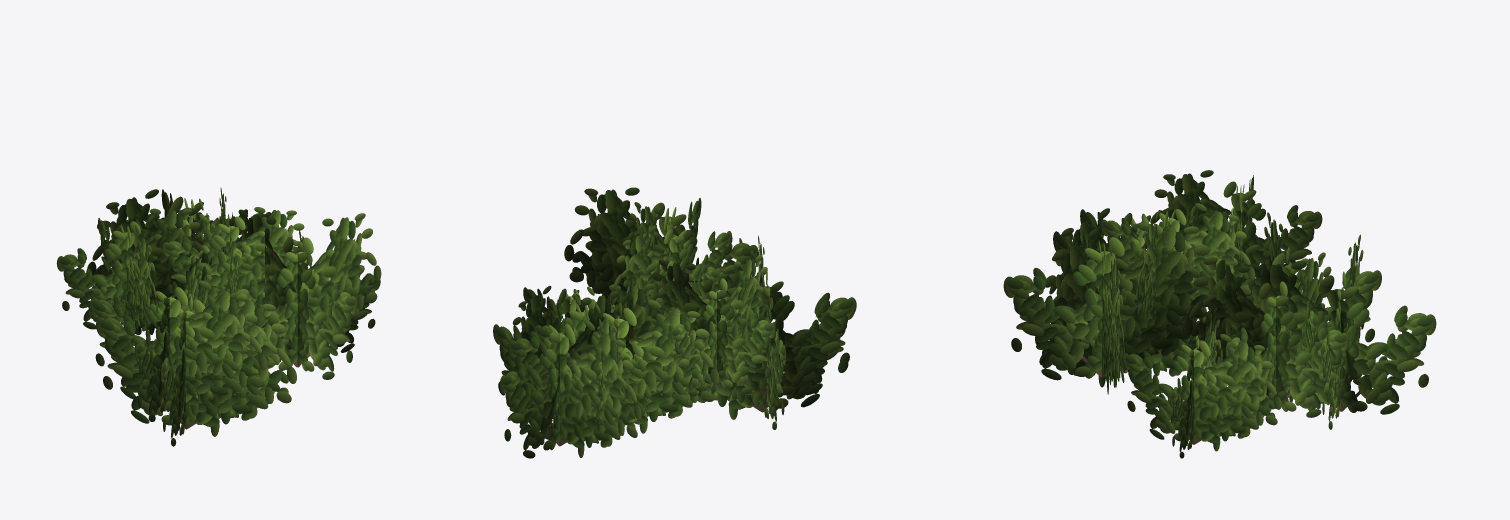
Rendered from bush1_oak.fbx.
3 views of the same model, side by side, from view 1: azimuth 30°, elevation 25°; view 2: azimuth 150°, elevation 25°; view 3: azimuth 270°, elevation 25° (orthographic). The views are drawn at different scales.
Parts seen in each view (by area): view 1: bush1_oak; view 2: bush1_oak; view 3: bush1_oak.
Boxes of the visible parts, left/top/right/bottom form: bush1_oak: left=56, top=187, right=381, bottom=446; bush1_oak: left=493, top=187, right=856, bottom=458; bush1_oak: left=1003, top=170, right=1436, bottom=458.
Bounding box in the file's own units: 1.76 × 1.46 × 2.13.
1 material, 1 textured.
